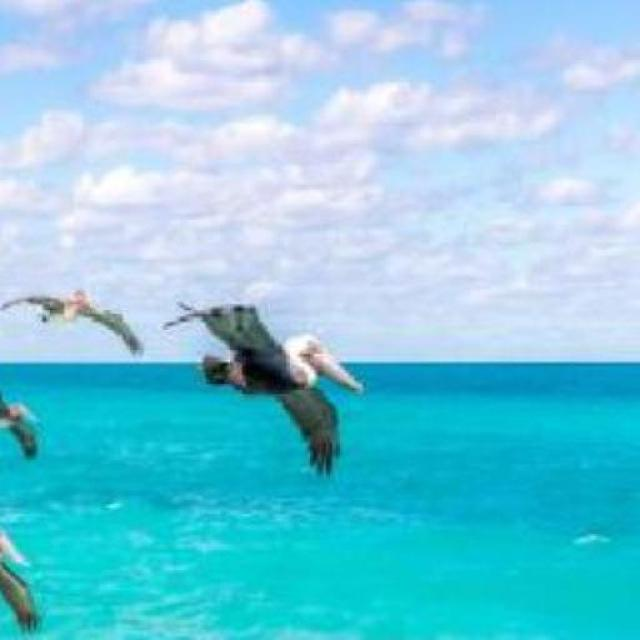airplane: (168, 304, 358, 480), (0, 291, 142, 352), (0, 486, 45, 638), (0, 386, 41, 460)
